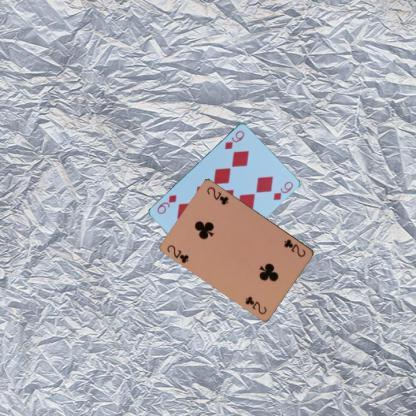2c: (281, 236, 307, 258), (165, 242, 190, 264)
9d: (222, 127, 245, 150)
